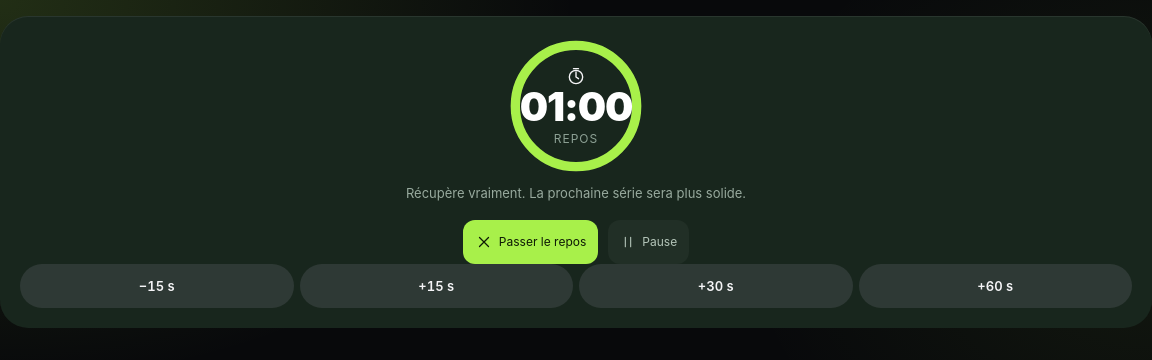
Test: RestTimer › adjusts remaining time by 15 seconds in either direction
Expected: the text "01:00" is shown, left=520, top=82, right=632, bottom=130
Click the button named "retirer 15 secondes" at (157, 286), box left=20, top=264, right=294, bottom=308
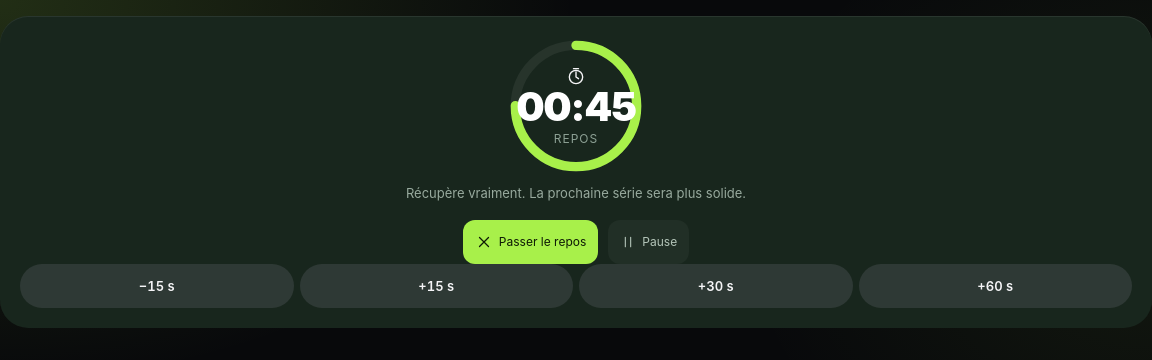
Result: the text "00:45" is shown at left=516, top=82, right=636, bottom=130
Click the button named "ajouter 15 secondes" at (436, 286), box left=300, top=264, right=573, bottom=308
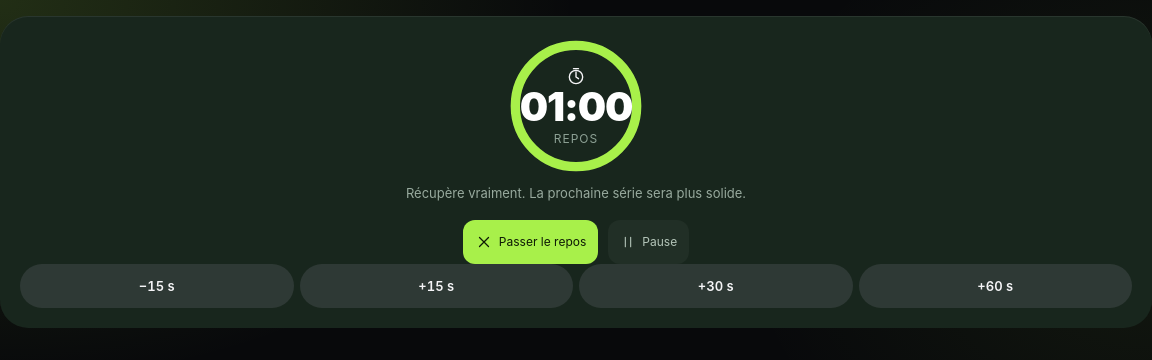
Result: the text "01:00" is shown at left=520, top=82, right=632, bottom=130
